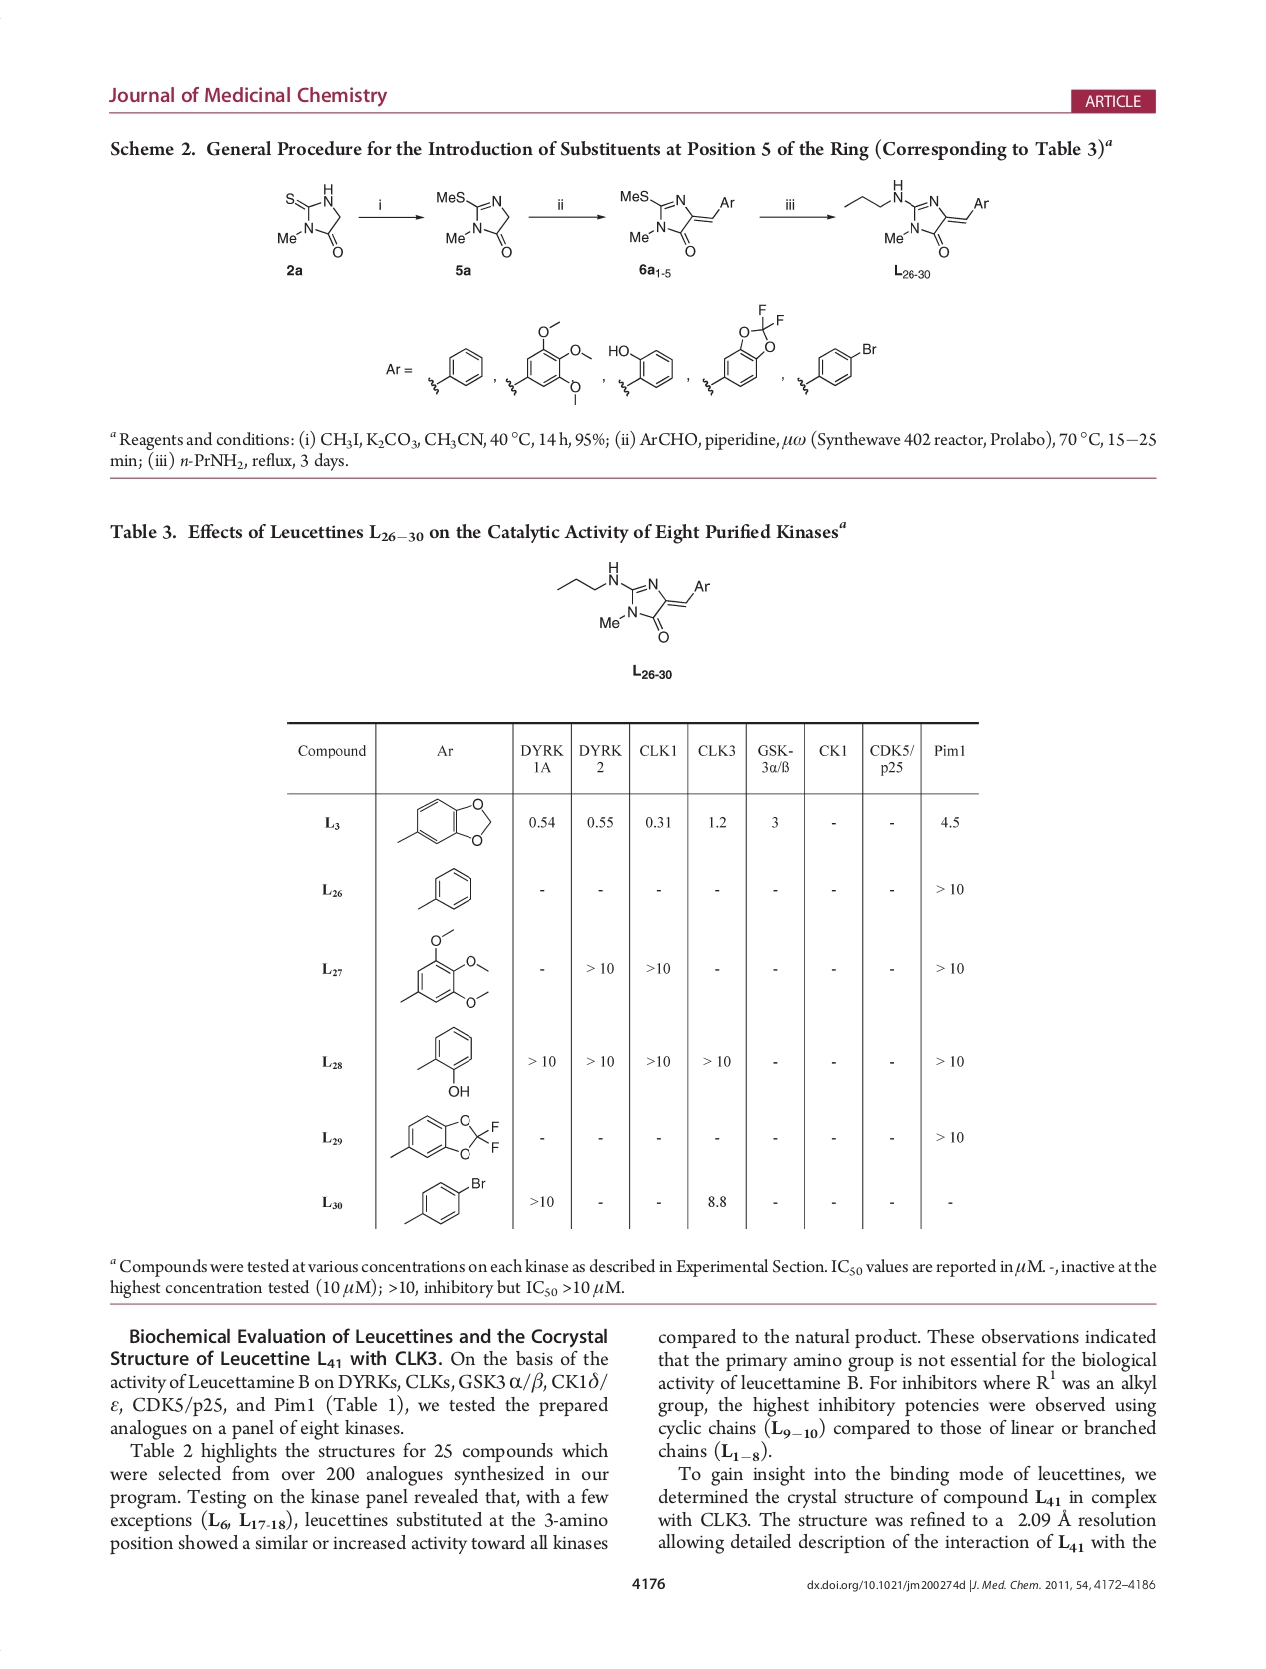exist_molecular: (555, 557, 711, 644), (839, 174, 991, 261), (617, 182, 735, 261), (503, 314, 596, 411), (701, 299, 787, 398), (396, 926, 493, 1012), (387, 1110, 505, 1165), (432, 188, 519, 261), (271, 177, 344, 261), (394, 797, 492, 850), (412, 1017, 476, 1098), (398, 1172, 487, 1229), (794, 336, 876, 394), (604, 338, 677, 398), (423, 338, 489, 395), (412, 860, 473, 916)
